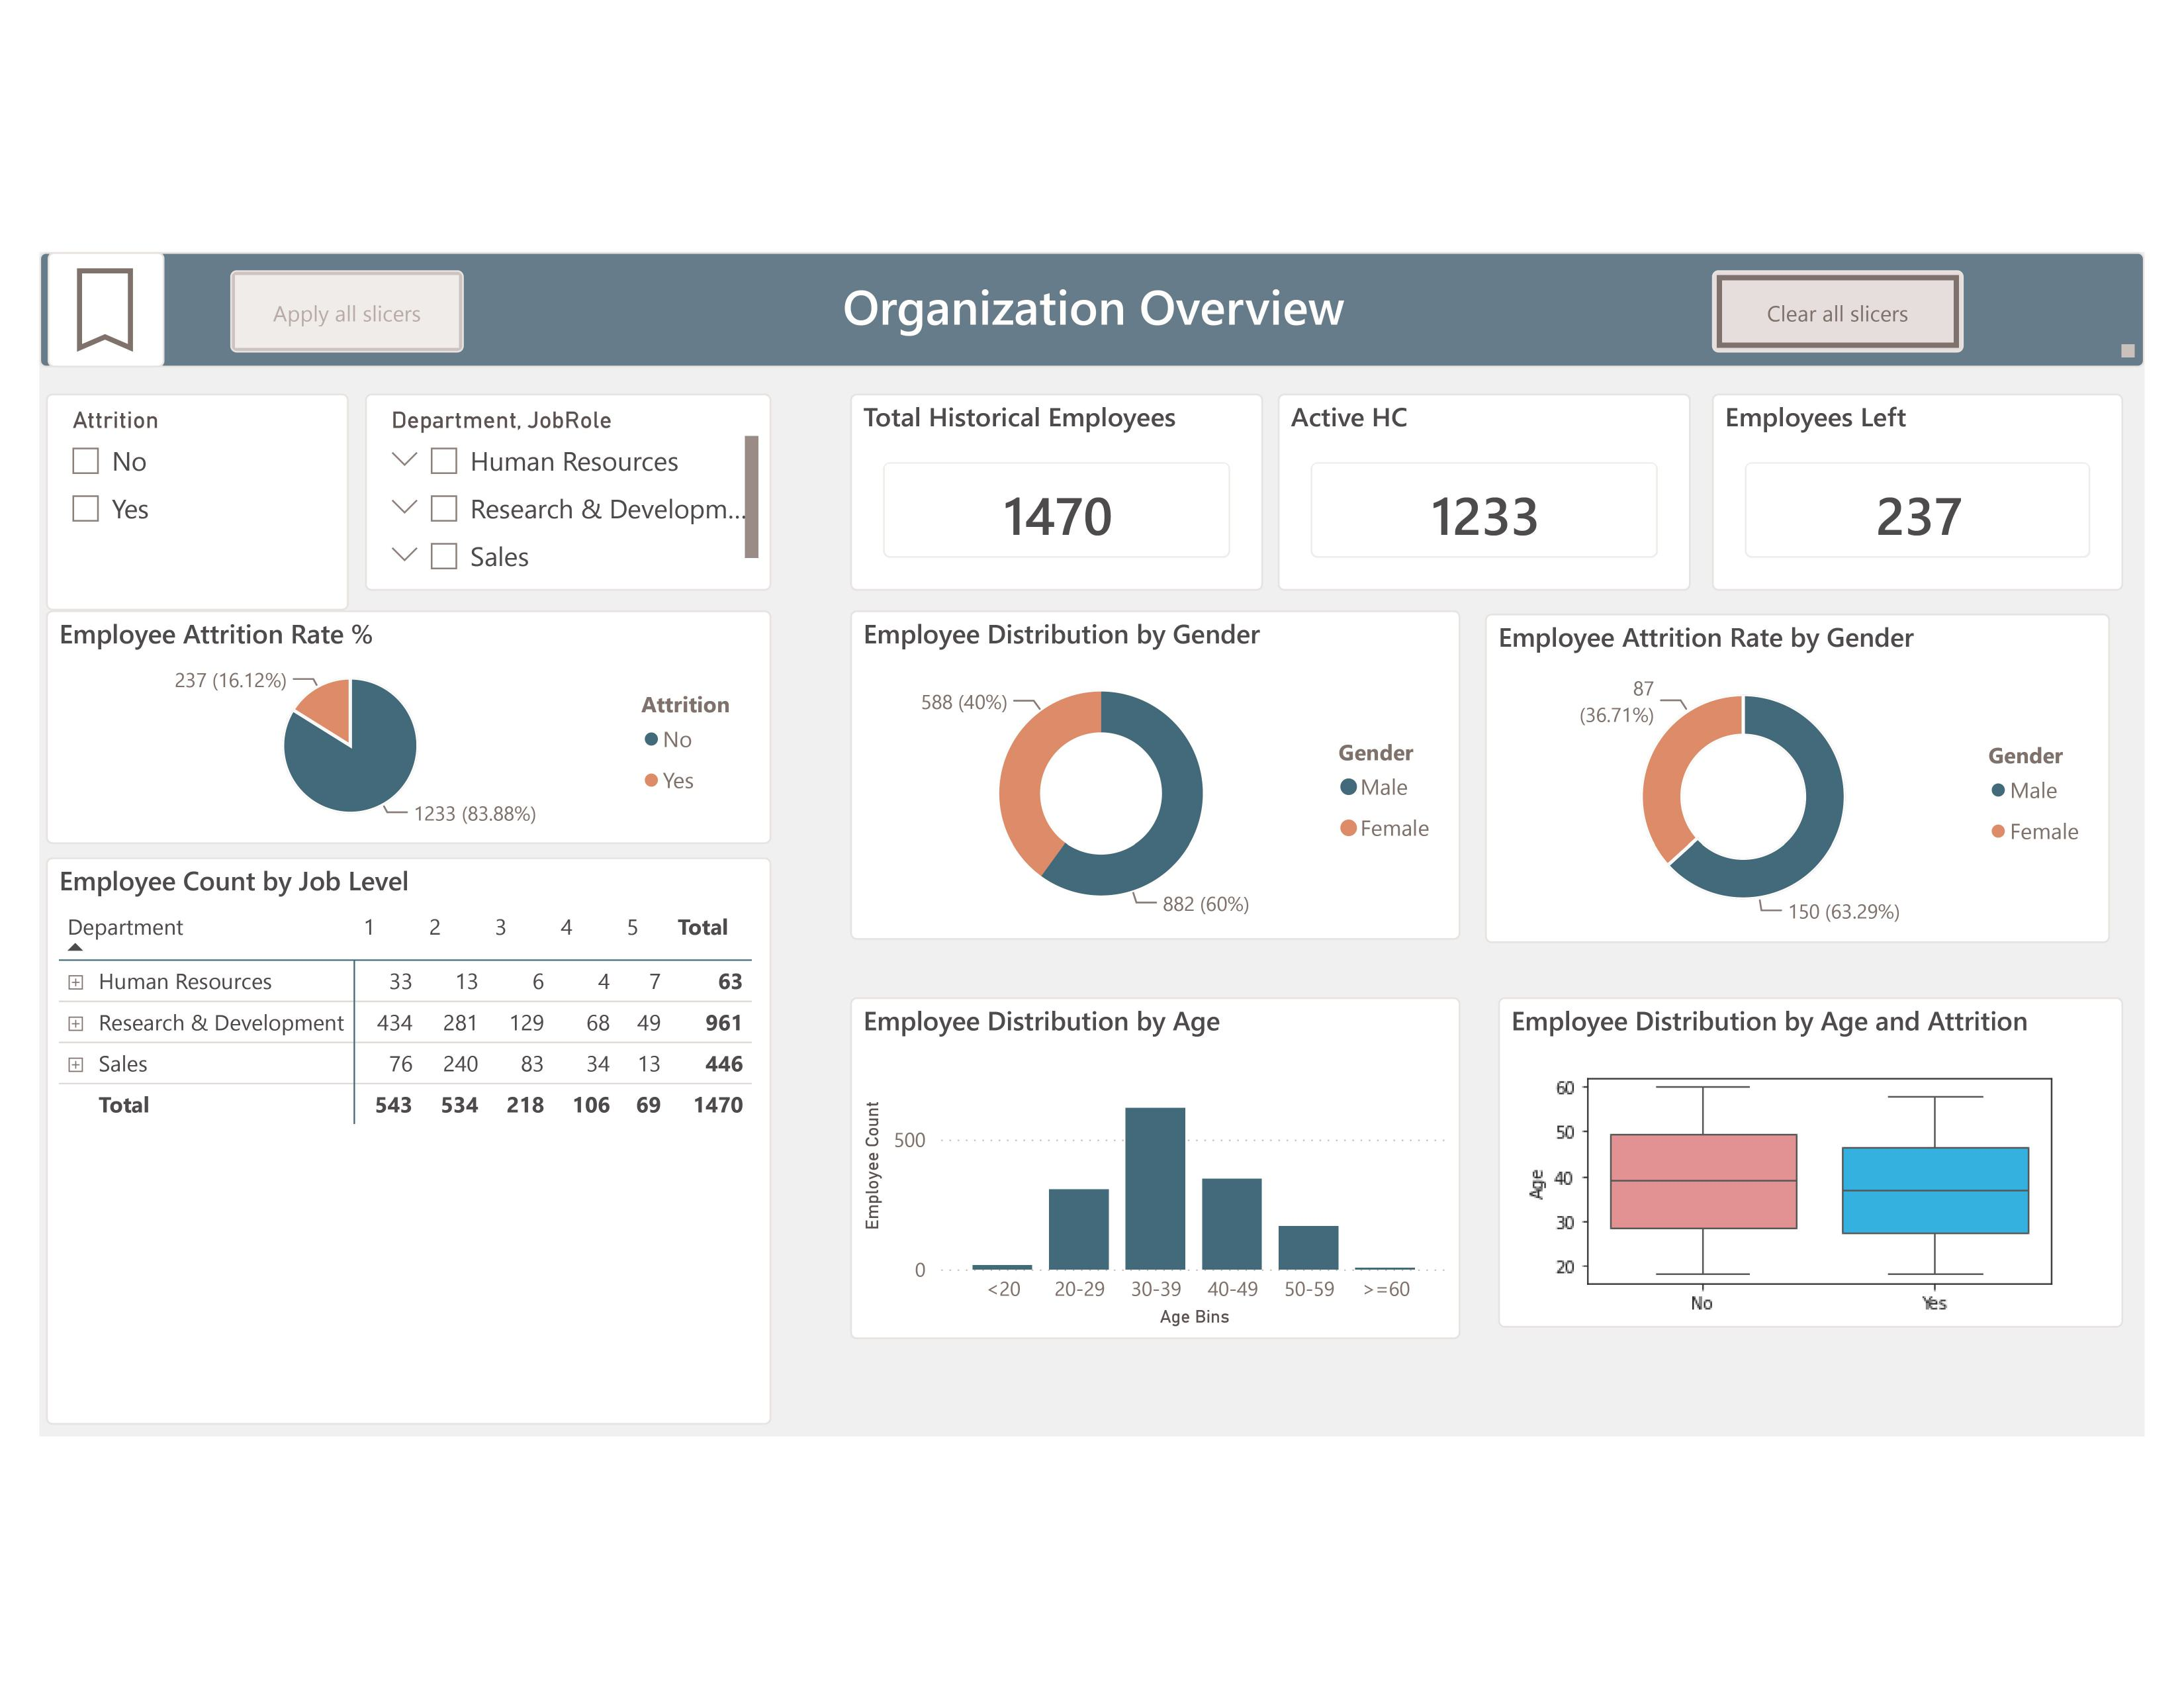

Layout of this report page (visuals, bound fields, positions):
{"tool":"powerbi","page":{"name":"Overview","canvas":[1280,720],"ordinal":1},"visuals":[{"type":"slicer","fields":{"Values":["Survey Input.Department","Survey Input.JobRole"]},"box":[197.5,85.9,247.9,120.2],"z":0},{"type":"pieChart","title":"Employee Attrition Rate %","fields":{"Category":["Survey Input.Attrition"],"Y":["Sum(Survey Input.EmployeeCount)"]},"box":[3.7,218.4,441.7,141.1],"z":1000},{"type":"donutChart","title":"Employee Distribution by Gender","fields":{"Category":["Survey Input.Gender"],"Y":["Sum(Survey Input.EmployeeCount)"]},"box":[493.3,218.4,370.6,200],"z":2000},{"type":"donutChart","title":"Employee Attrition Rate by Gender","fields":{"Category":["Survey Input.Gender"],"Y":["All_Measures.Left Employees"]},"box":[878.5,219.6,380.4,200],"z":3000},{"type":"columnChart","title":"Employee Distribution by Age","fields":{"Category":["Survey Input.AgeBins"],"Y":["Sum(Survey Input.EmployeeCount)"]},"box":[493.3,452.8,370.6,208.6],"z":4000},{"type":"pythonVisual","title":"Employee Distribution by Age and Attrition","fields":{"Values":["Survey Input.Age","Survey Input.Attrition"]},"box":[887,453.3,380.3,200.6],"z":5000},{"type":"textbox","title":"Organization Overview","box":[0,0,1279.8,70],"z":6000},{"type":"cardVisual","title":"Total Historical Employees","fields":{"Data":["Sum(Survey Input.EmployeeCount)"]},"box":[493.3,85.9,250.3,120.2],"z":7000},{"type":"cardVisual","title":"Active HC","fields":{"Data":["All_Measures.Active Employees"]},"box":[753.4,85.9,250.3,120.2],"z":8000},{"type":"cardVisual","title":"Employees Left","fields":{"Data":["All_Measures.Left Employees"]},"box":[1017.2,85.9,250.3,120.2],"z":9000},{"type":"pivotTable","title":"Employee Count by Job Level","fields":{"Columns":["JobLevel.Job Level"],"Rows":["Survey Input.Department","Survey Input.JobRole"],"Values":["Sum(Survey Input.EmployeeCount)"]},"box":[3.7,368.1,441.7,344.8],"z":10000},{"type":"slicer","fields":{"Values":["Survey Input.Attrition"]},"box":[3.7,85.9,184.1,132.5],"z":11000},{"type":"actionButton","box":[115.7,10.5,142.6,50.3],"z":12000},{"type":"actionButton","box":[1017.2,10.5,153.2,50.3],"z":13000},{"type":"actionButton","box":[4.9,0,71.2,69.9],"z":14000}]}

Visuals, with their boxes on the page's 1280x720 design canvas (x1, y1, x2, y2). These are canvas units, not pixel positions in the 2184x1688 screenshot, which may show the page scaled, cropped or inside an application window:
slicer - Survey Input.Department x Survey Input.JobRole: left=198, top=86, right=445, bottom=206
"Employee Attrition Rate %" pieChart: left=4, top=218, right=445, bottom=360
"Employee Distribution by Gender" donutChart: left=493, top=218, right=864, bottom=418
"Employee Attrition Rate by Gender" donutChart: left=878, top=220, right=1259, bottom=420
"Employee Distribution by Age" columnChart: left=493, top=453, right=864, bottom=661
"Employee Distribution by Age and Attrition" pythonVisual: left=887, top=453, right=1267, bottom=654
"Organization Overview" textbox: left=0, top=0, right=1280, bottom=70
"Total Historical Employees" cardVisual: left=493, top=86, right=744, bottom=206
"Active HC" cardVisual: left=753, top=86, right=1004, bottom=206
"Employees Left" cardVisual: left=1017, top=86, right=1268, bottom=206
"Employee Count by Job Level" pivotTable: left=4, top=368, right=445, bottom=713
slicer - Survey Input.Attrition: left=4, top=86, right=188, bottom=218
actionButton: left=116, top=10, right=258, bottom=61
actionButton: left=1017, top=10, right=1170, bottom=61
actionButton: left=5, top=0, right=76, bottom=70
